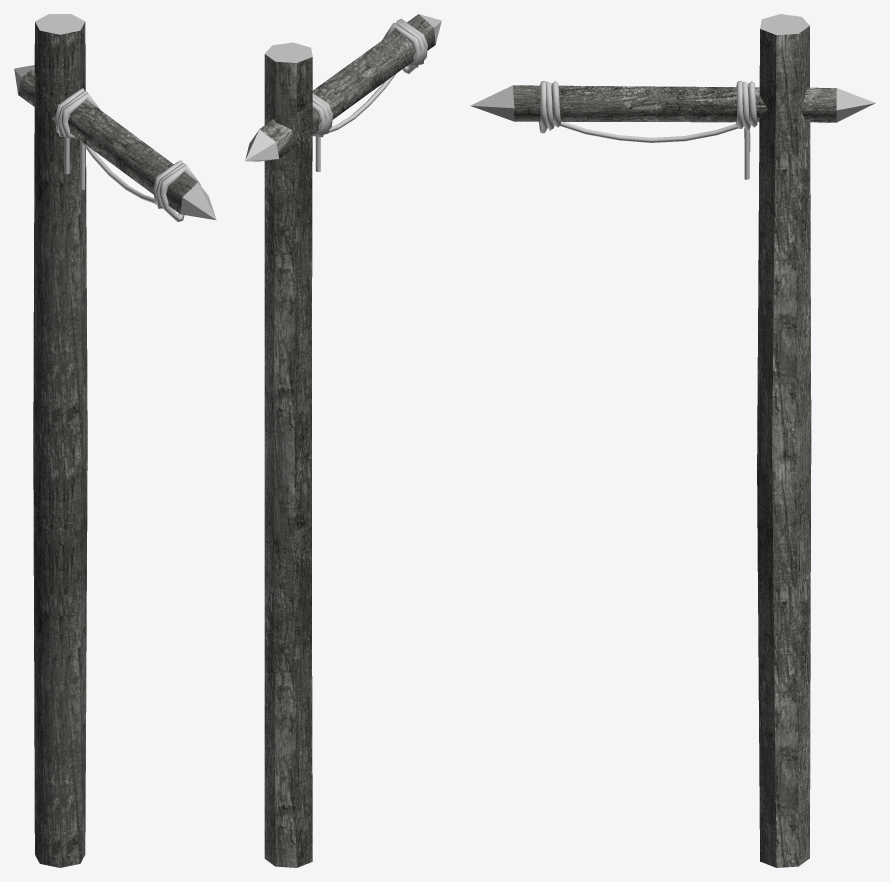
File: mw_lantern_post_02.FBX
3 views of the same model, side by side, from view 1: azimuth 30°, elevation 25°; view 2: azimuth 150°, elevation 25°; view 3: azimuth 270°, elevation 25° (orthographic). The views are drawn at different scales.
Parts seen in each view (by area): view 1: mw_lantern_post_02; view 2: mw_lantern_post_02; view 3: mw_lantern_post_02.
Boxes of the visible parts, <box> form: mw_lantern_post_02: <box>14,14,216,867</box>; mw_lantern_post_02: <box>245,14,441,867</box>; mw_lantern_post_02: <box>470,14,875,867</box>.
Bounding box in the file's own units: 20.33 × 366 × 162.
